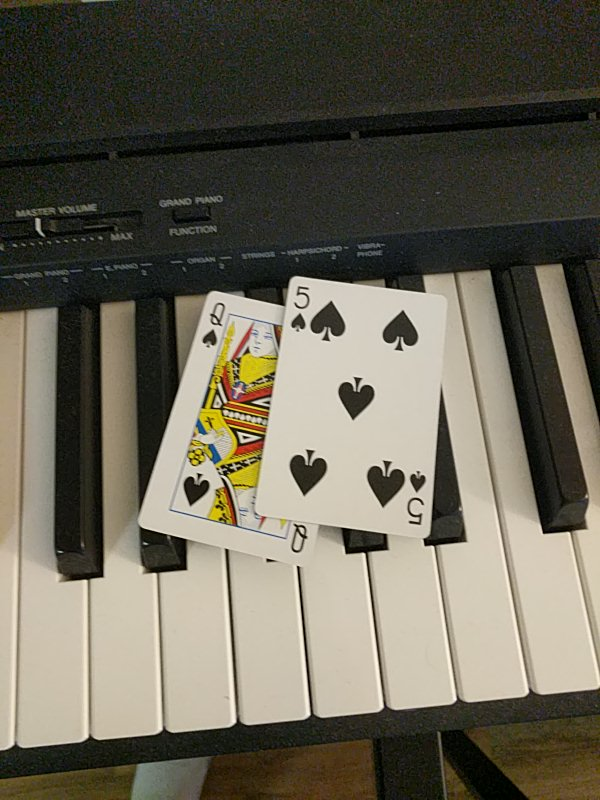Spades: (138, 290, 319, 568), (259, 275, 448, 538)
